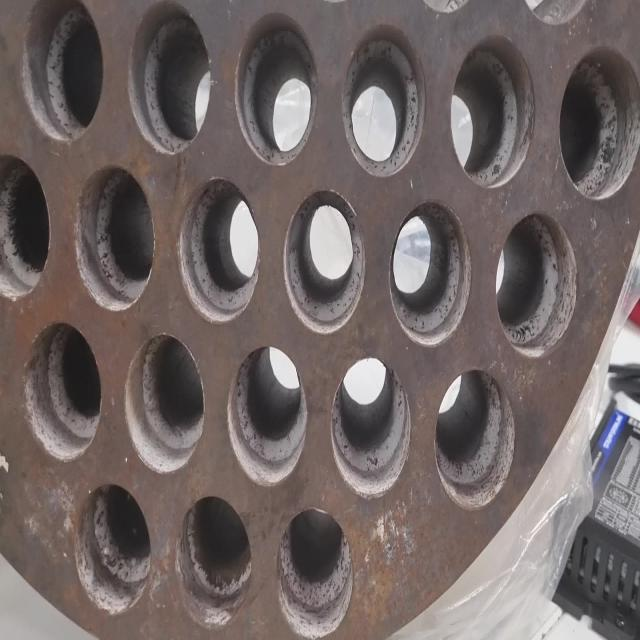Hole: (449, 35, 534, 188), (341, 24, 425, 178), (235, 13, 318, 167), (128, 3, 212, 155), (559, 46, 639, 201), (18, 0, 104, 144), (389, 198, 472, 346), (178, 176, 260, 324), (73, 164, 155, 312), (496, 212, 577, 358), (283, 188, 364, 334), (434, 366, 516, 510), (227, 344, 308, 488), (329, 356, 410, 499), (124, 332, 204, 474), (22, 320, 102, 462), (174, 493, 252, 629), (74, 481, 152, 616), (276, 506, 354, 640), (0, 152, 51, 302)
